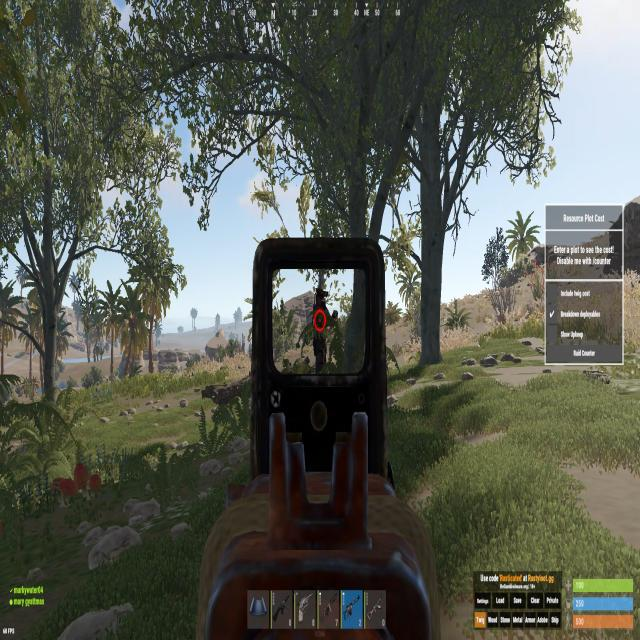Player: (310, 283, 330, 374)
